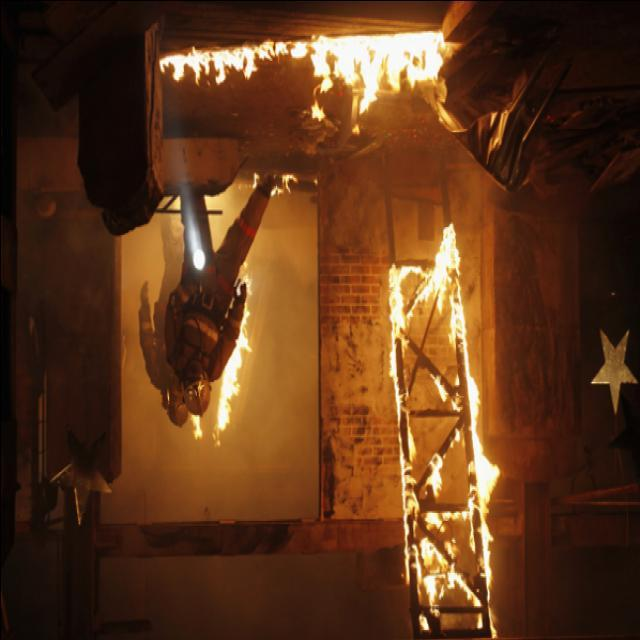Fire: (385, 222, 500, 592), (158, 30, 448, 117), (185, 265, 255, 441)
